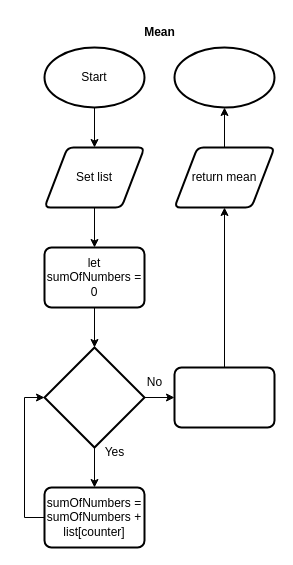
Image size: 293x565. Some labels were removed from this diagram. Each missing label, with the box of its shape:
const mean = sumOfNumbers / list.length: (173, 366, 275, 428)
for (let counter = 0; counter < list.length; counter++): (43, 346, 145, 448)
Stop: (173, 46, 275, 108)
